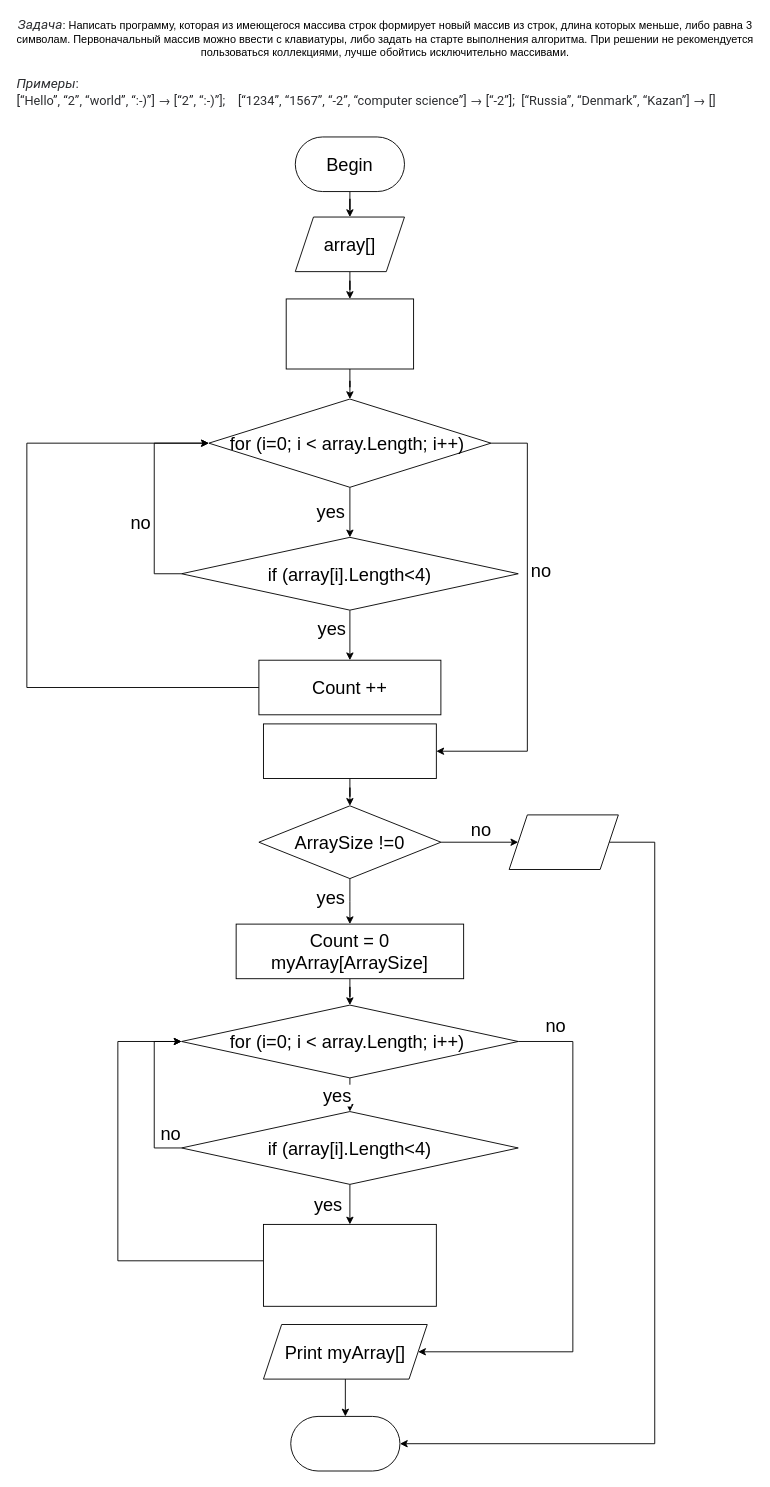
This 770x1487 diagram has some shape labels left out. The shapes that lost their labels are listed below. From the top down, each one's box as (x1, y1, x2, y2) in pixels, then its label:
(285, 298, 414, 369): ArraySize = 0 Count = 0
(263, 723, 436, 779): ArraySize = Count
(508, 814, 618, 870): Print "[ ]"
(263, 1223, 436, 1306): myArray[Count] = array[i] Count++
(290, 1416, 400, 1471): End
